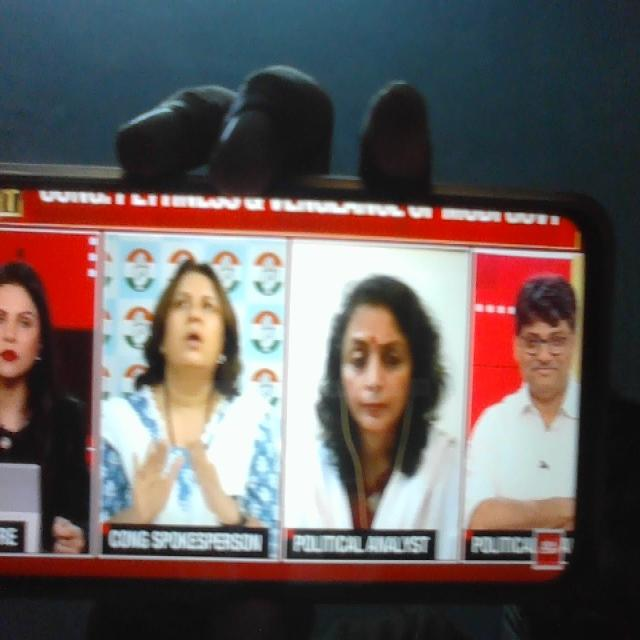fake: (324, 256, 434, 464)
